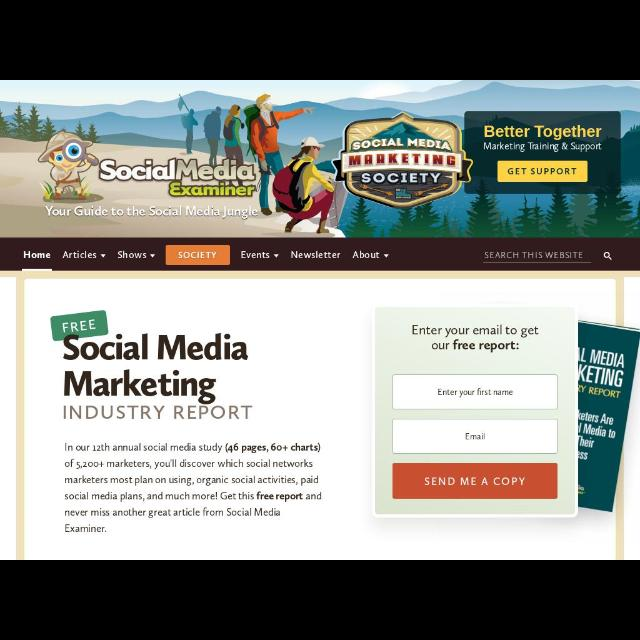icon: (602, 251, 614, 261), (382, 254, 390, 258), (100, 254, 106, 258), (150, 254, 156, 258), (273, 254, 279, 258)
image: (1, 81, 640, 237), (578, 318, 638, 512), (49, 310, 109, 342)
input: (392, 418, 558, 456), (392, 374, 558, 411), (482, 247, 616, 263)
multitab: (0, 238, 408, 270)
spinner: (61, 250, 106, 260), (116, 250, 156, 260), (240, 250, 280, 260), (352, 250, 390, 260)
text: (64, 442, 322, 534), (62, 334, 250, 406), (412, 323, 540, 353), (62, 406, 254, 420), (484, 124, 602, 140), (483, 142, 602, 152), (484, 250, 584, 260), (437, 388, 513, 398), (291, 250, 341, 260), (61, 250, 98, 260), (116, 250, 148, 260), (22, 250, 52, 260), (240, 250, 270, 260), (352, 250, 380, 260), (466, 432, 486, 440)
textbutton: (392, 462, 558, 500), (496, 160, 588, 182), (166, 246, 230, 264)
